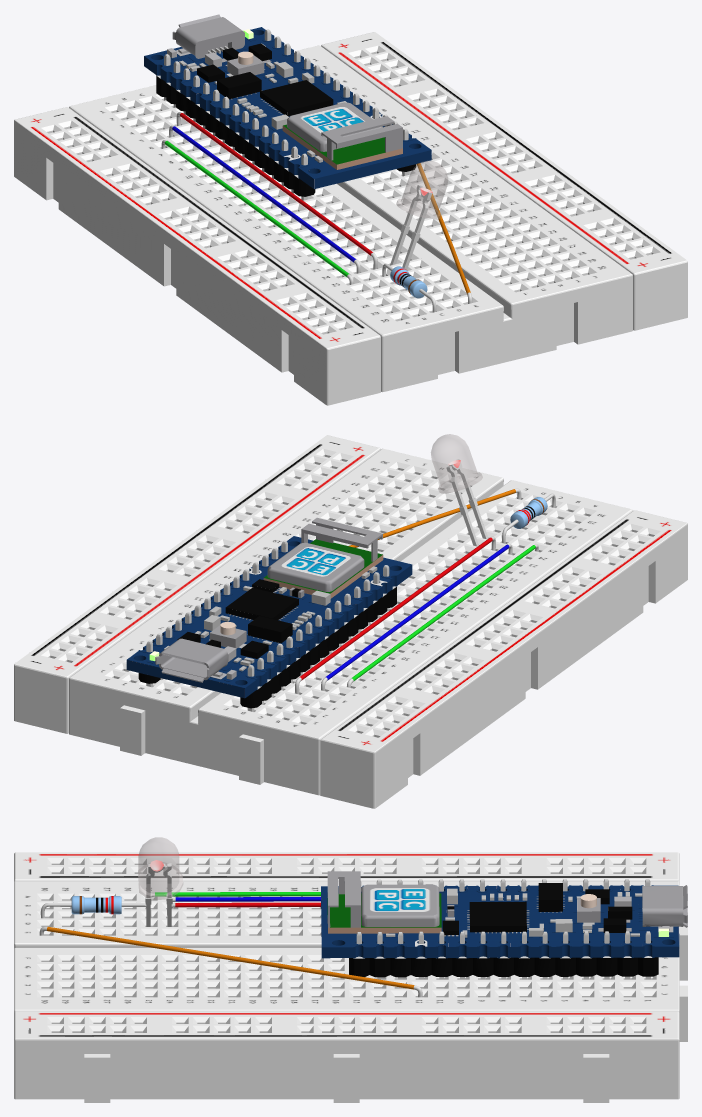
3 renders of one model, top to bottom at view 1: azimuth 30°, elevation 25°; view 2: azimuth 150°, elevation 25°; view 3: azimuth 270°, elevation 25°, orthographic. The views are drawn at different scales.
Parts seen in each view (by area): view 1: bread_board_outer, bread_board_inner, arduino, arduino_pins, diode.001, wire_red, wire_blue, wire_green, diode, wire_green.001, resistor_cylinder; view 2: bread_board_outer, bread_board_inner, arduino, arduino_pins, diode.001, wire_red, wire_blue, wire_green, diode, wire_green.001, resistor_cylinder; view 3: bread_board_outer, bread_board_inner, arduino, arduino_pins, diode.001, wire_green.001, resistor_cylinder, diode, wire_green, wire_red, wire_blue.
Boxes of the visible parts, x1,y1,x2,y2 form: bread_board_outer: [14, 32, 687, 405]; bread_board_inner: [38, 44, 663, 335]; arduino: [144, 14, 431, 189]; arduino_pins: [156, 29, 416, 200]; diode.001: [396, 161, 447, 219]; wire_red: [176, 112, 377, 269]; wire_blue: [169, 125, 360, 273]; wire_green: [161, 140, 353, 284]; diode: [390, 185, 432, 269]; wire_green.001: [416, 163, 472, 303]; resistor_cylinder: [390, 266, 427, 298]; bread_board_outer: [14, 435, 687, 808]; bread_board_inner: [38, 447, 663, 738]; arduino: [126, 517, 412, 698]; arduino_pins: [138, 540, 396, 711]; diode.001: [431, 434, 482, 493]; wire_red: [295, 536, 495, 694]; wire_blue: [321, 544, 512, 690]; wire_green: [346, 544, 538, 687]; diode: [446, 459, 488, 546]; wire_green.001: [348, 488, 521, 547]; resistor_cylinder: [510, 497, 547, 528]; bread_board_outer: [14, 852, 687, 1102]; bread_board_inner: [34, 857, 658, 1033]; arduino: [321, 871, 687, 958]; arduino_pins: [349, 879, 658, 979]; diode.001: [138, 837, 182, 899]; wire_green.001: [39, 926, 422, 997]; resistor_cylinder: [71, 896, 121, 914]; diode: [145, 860, 172, 926]; wire_green: [150, 892, 320, 896]; wire_red: [167, 902, 320, 915]; wire_blue: [167, 897, 320, 907].
Bounding box in the file's own units: 1.35 × 0.5332 × 2.02.
Materials: 18 (2 with a texture image).
